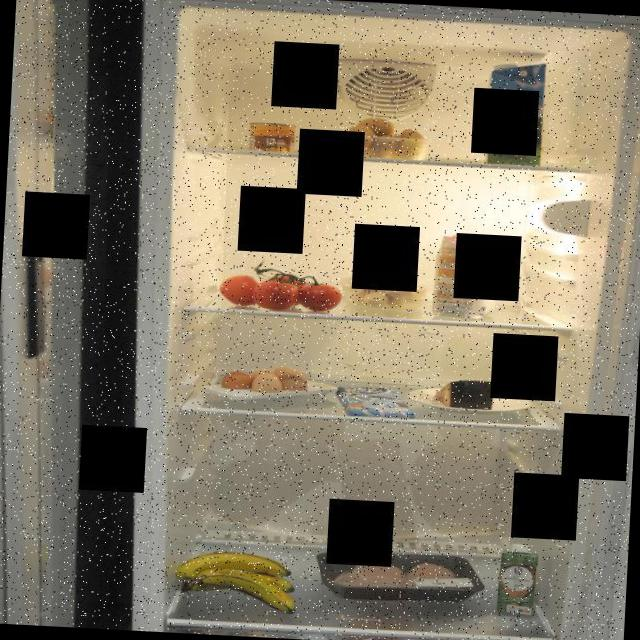Carne pollo: (312, 548, 488, 606)
Champiñones: (336, 255, 430, 310)
Huevos: (220, 363, 314, 402)
Leche: (481, 55, 551, 170)
Patata: (339, 113, 434, 162)
Plátano: (173, 546, 305, 618)
Queso: (434, 377, 496, 412)
Tomate: (217, 251, 346, 313)
chocolate: (334, 386, 420, 420)
corn: (247, 120, 300, 156)
heavy_cream: (490, 540, 540, 620)
sugar: (432, 228, 502, 323)
